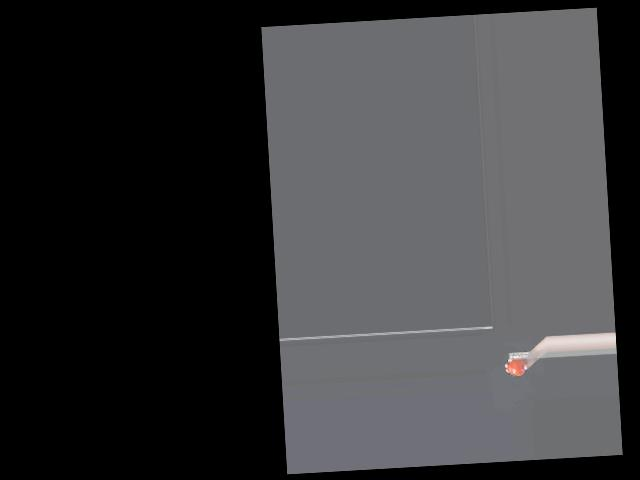tomato: (506, 358, 525, 376)
